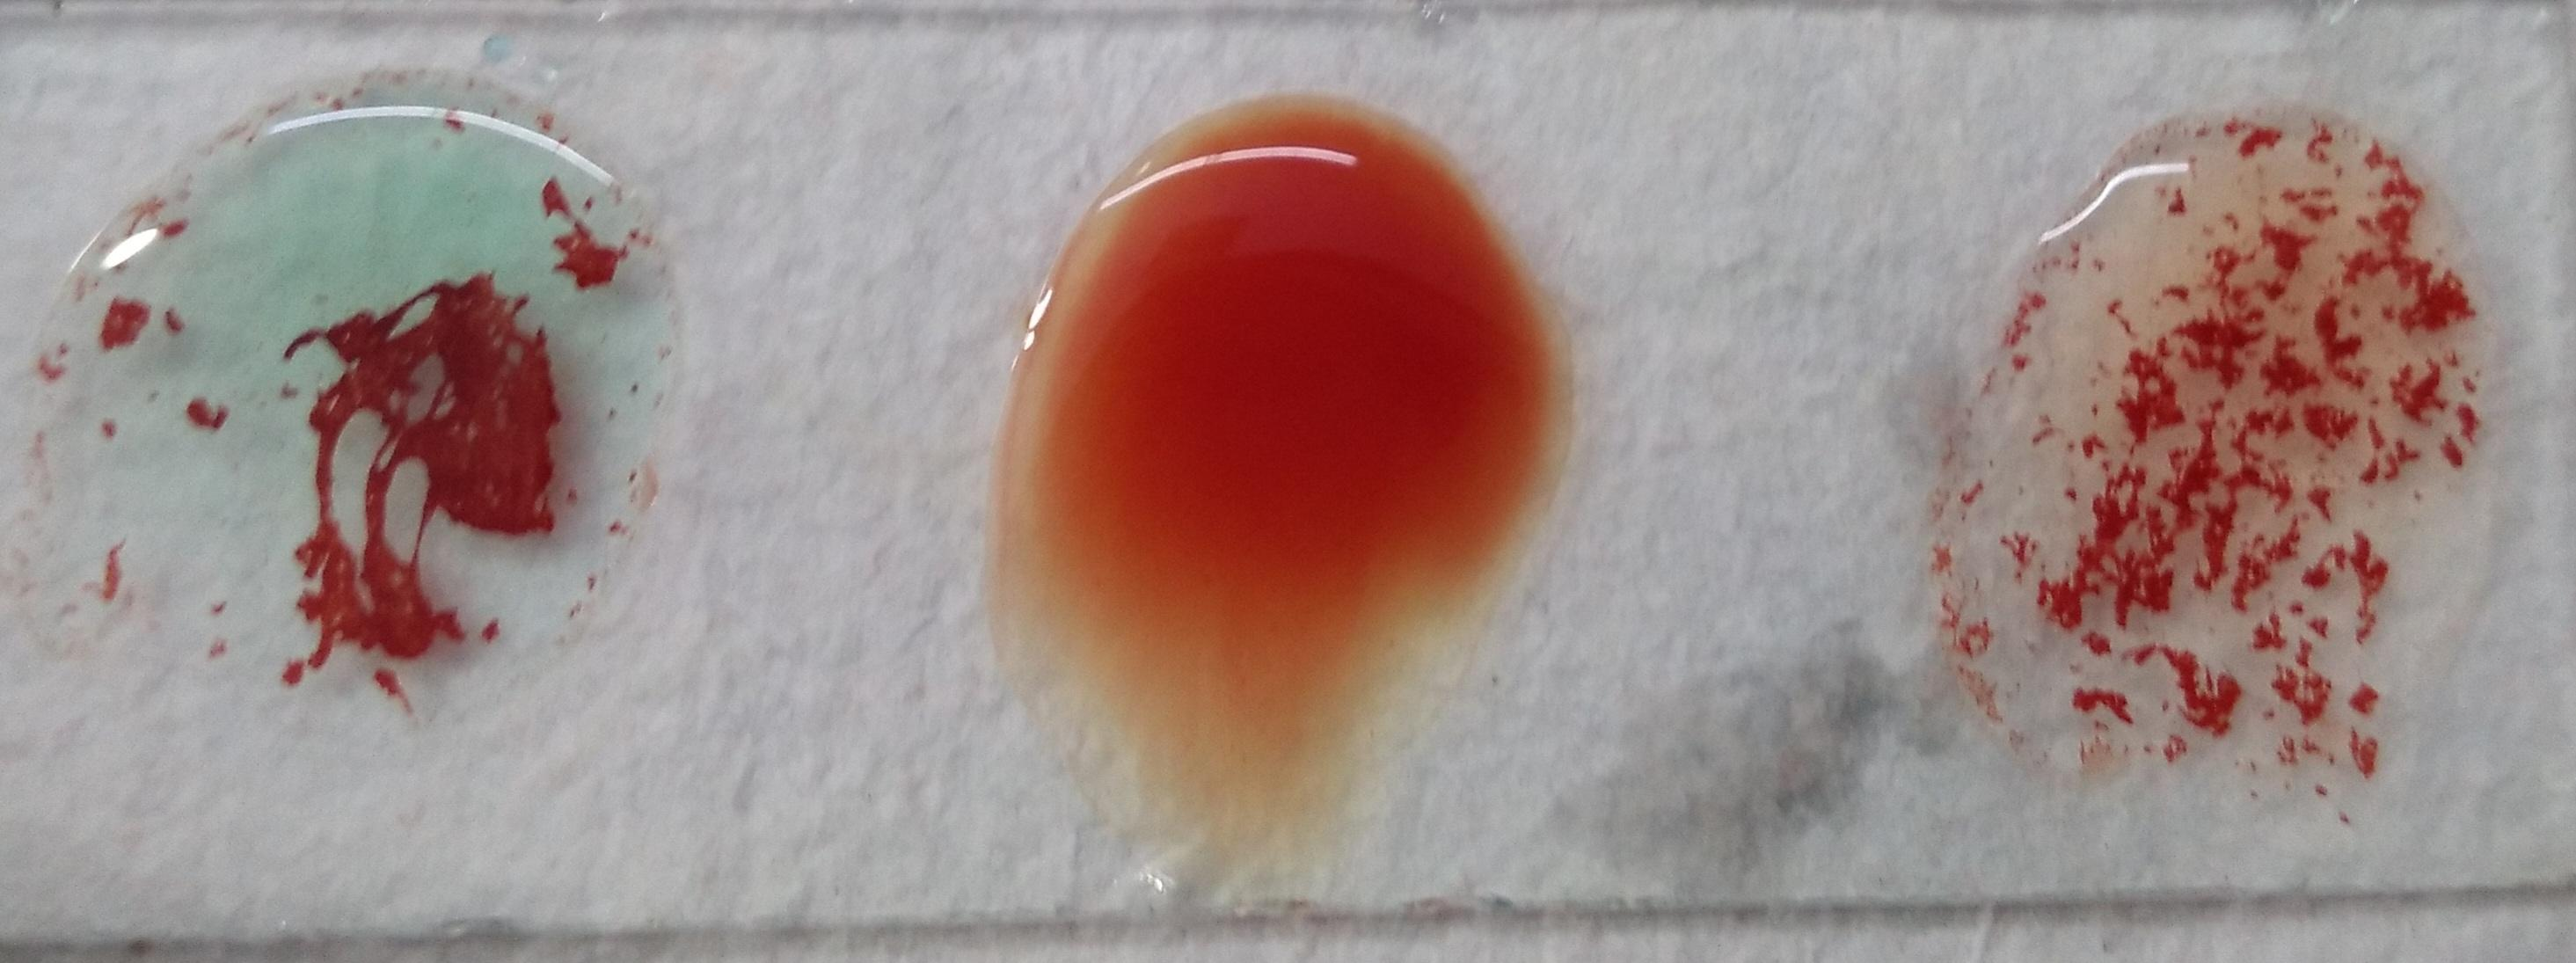A: (53, 77, 688, 736)
D: (1917, 120, 2504, 813)
